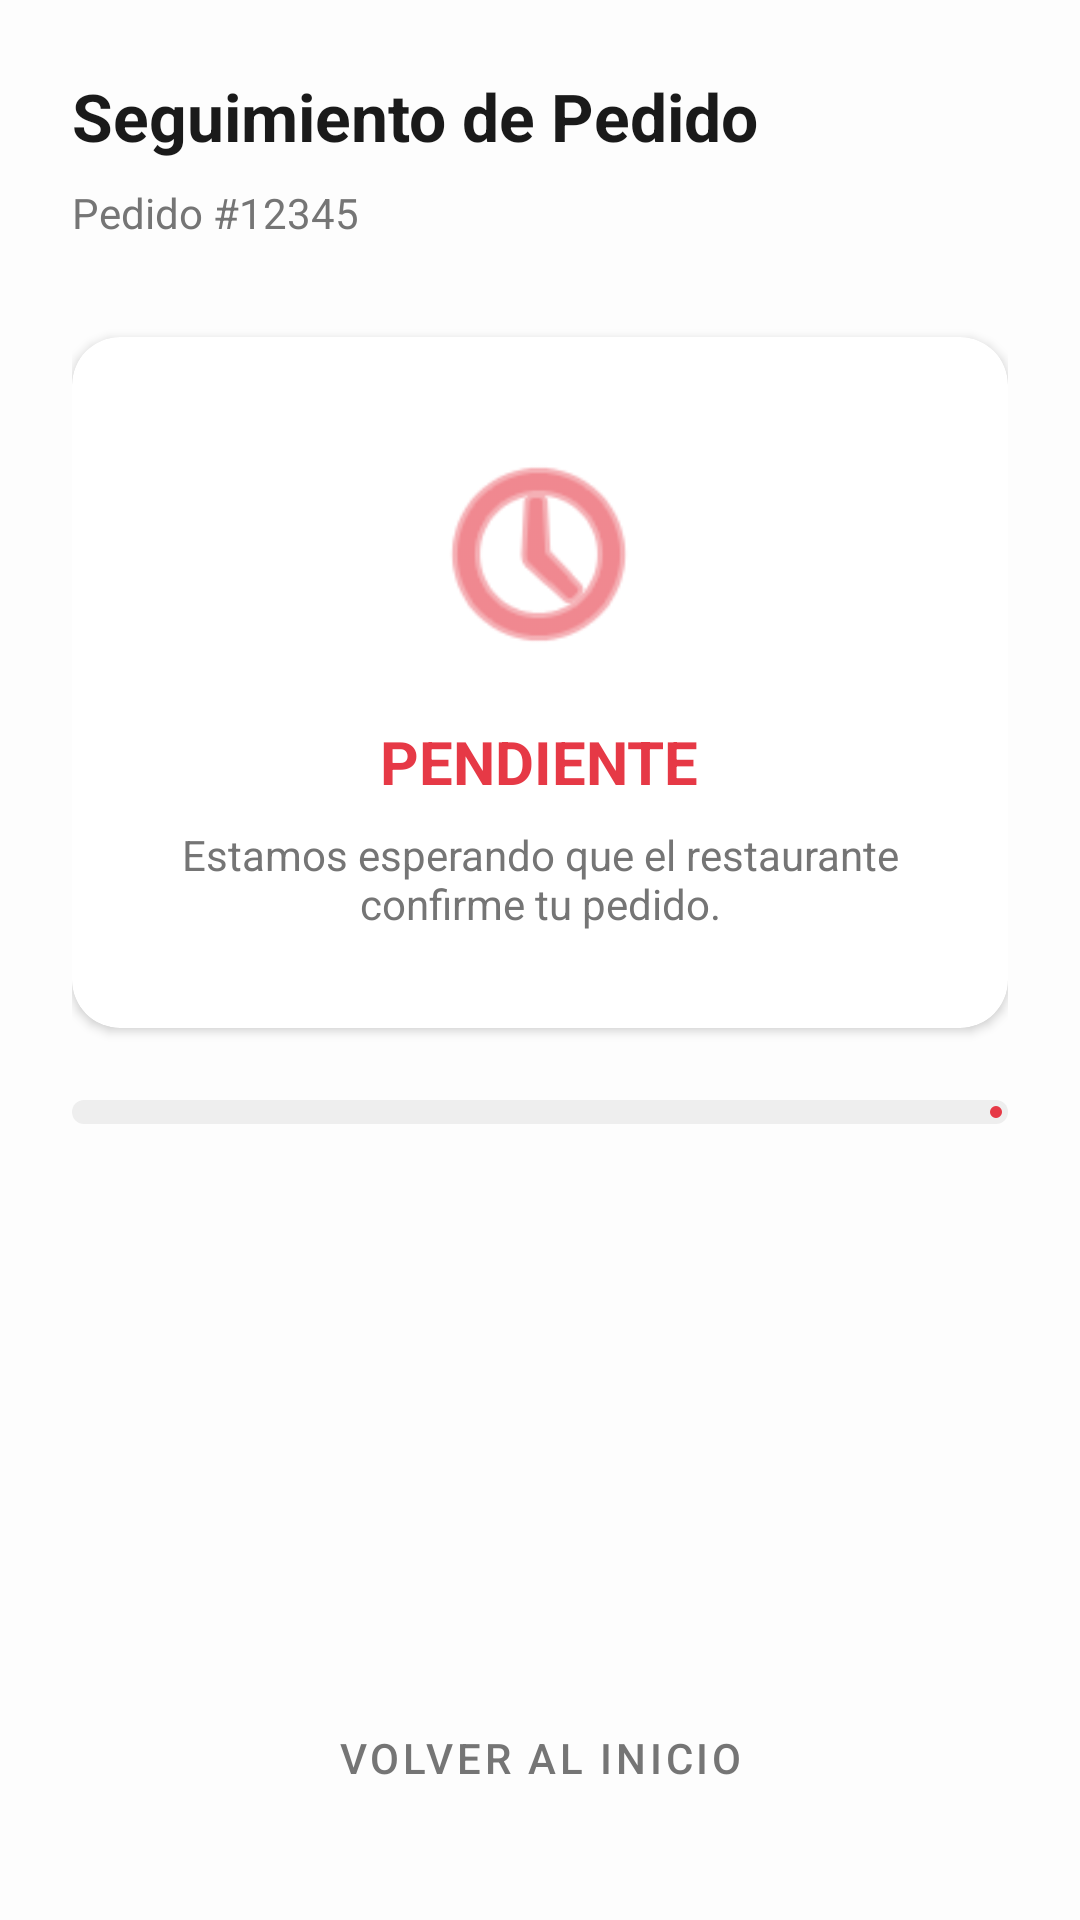

Screen size 1080×1920. Icon name, then its box in pixels as BBox(x1, y1, x2, y2):
recent history: BBox(452, 467, 626, 641)
